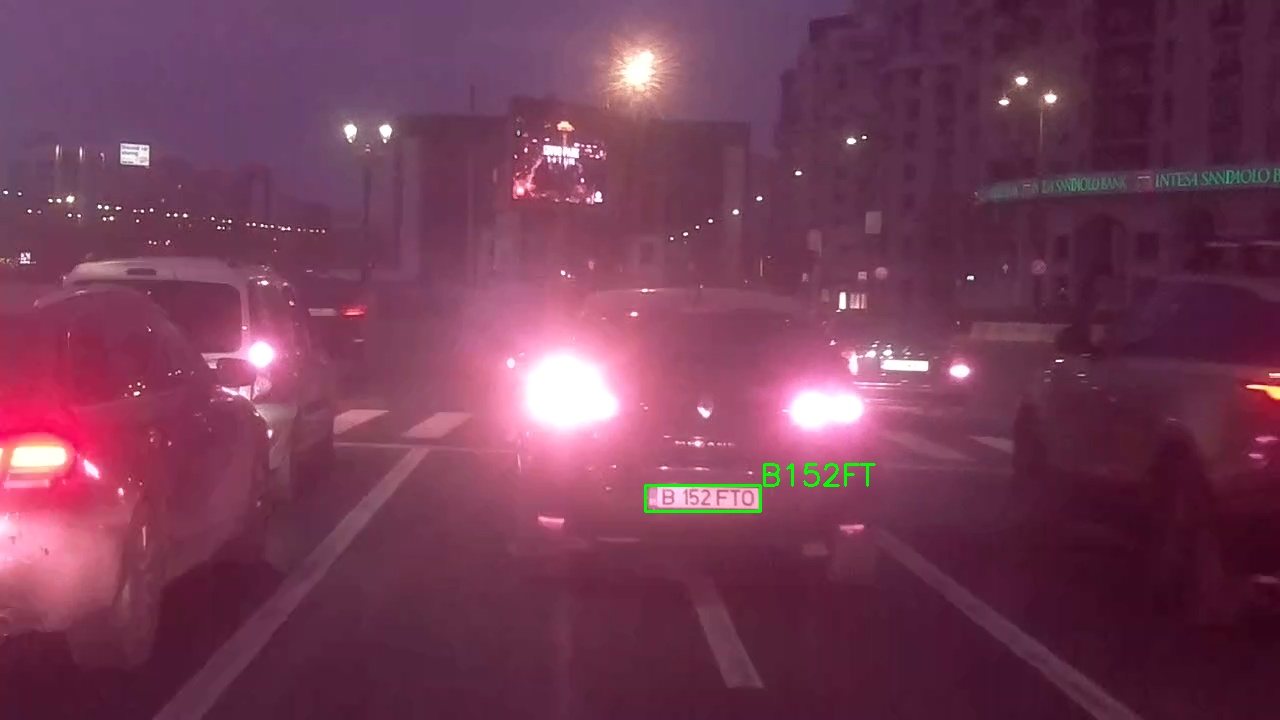license-plate: (645, 485, 761, 512)
